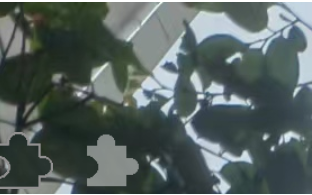target: (81, 132, 143, 190)
